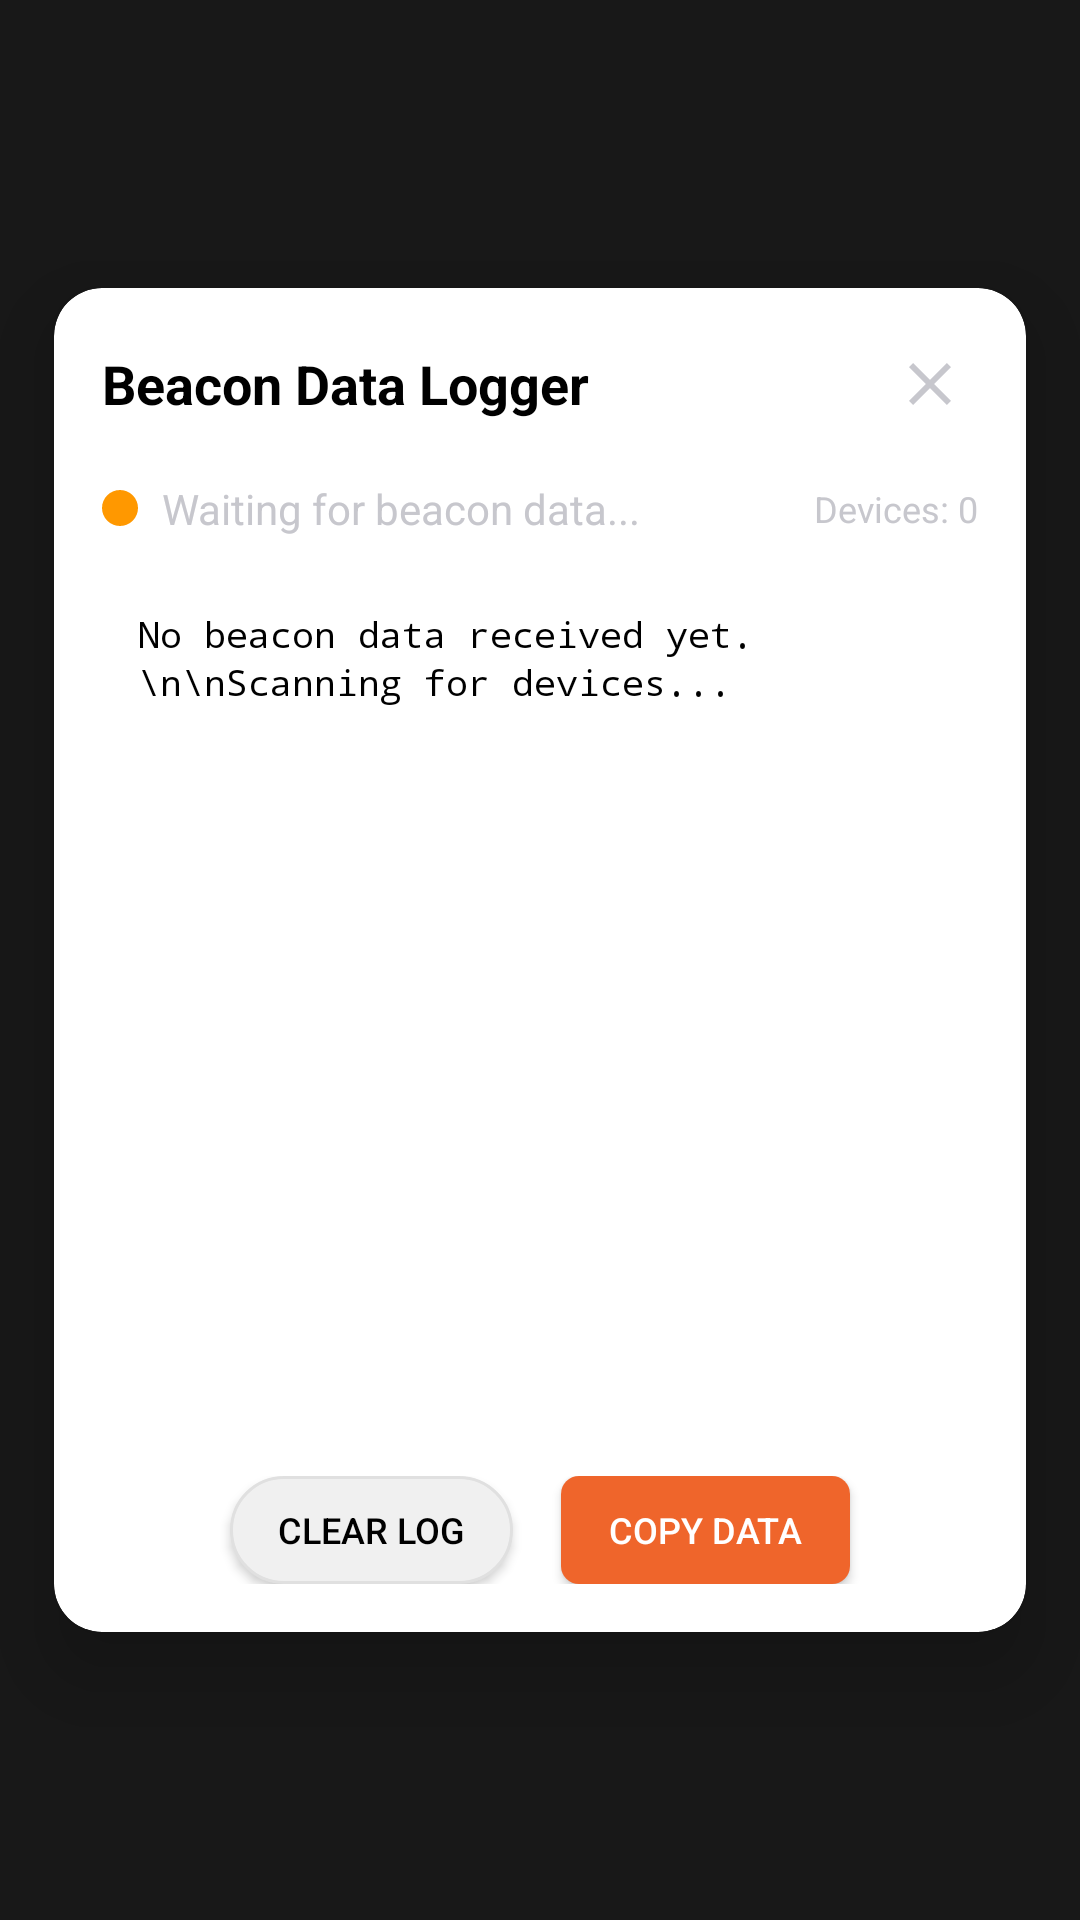

Screen size 1080px×1920px. Icon name, then its center in pixels as (x=x, y=y):
Close: (x=930, y=384)
